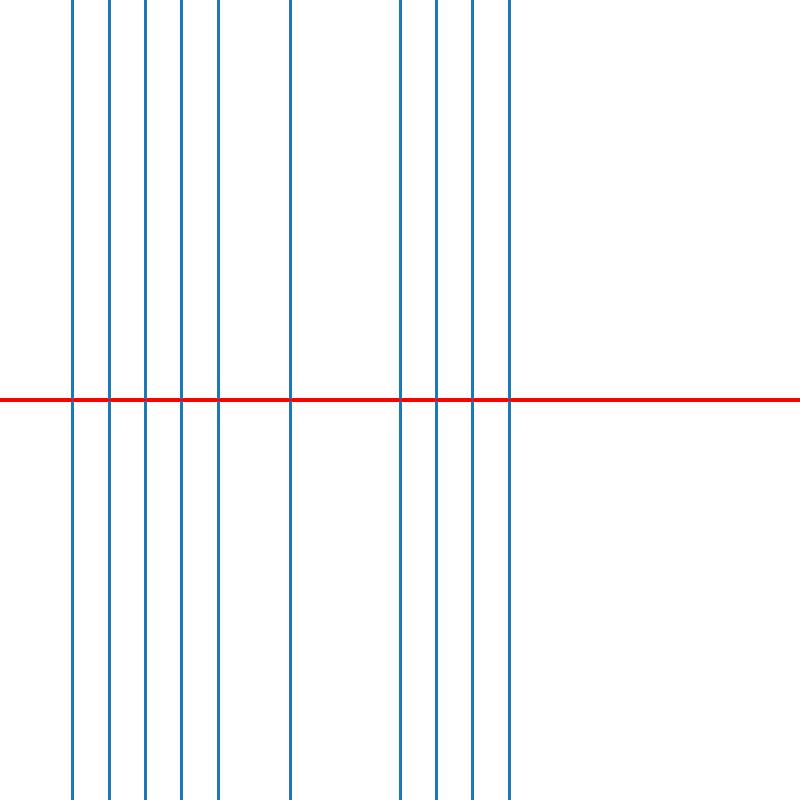root: (141, 396, 149, 404), (432, 396, 440, 404), (178, 396, 185, 404), (105, 396, 112, 404), (214, 396, 221, 404), (469, 396, 476, 404), (396, 396, 403, 404), (69, 396, 76, 404), (287, 396, 294, 404), (505, 396, 512, 404)
